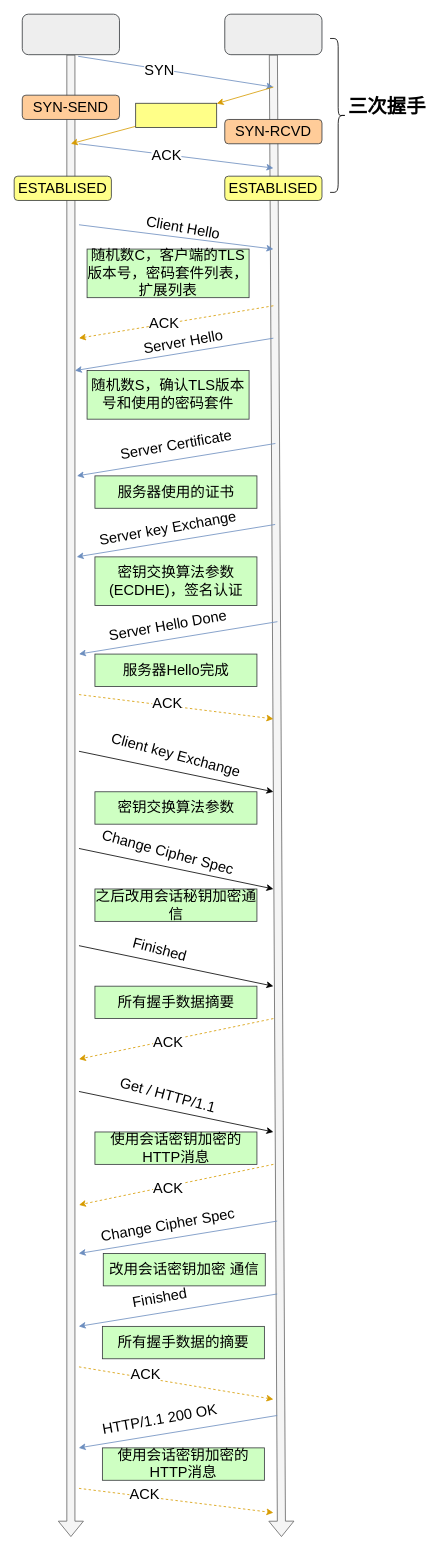
Image size: 441x1551. Some labels were removed from this diagram. Each missing label, with the centre of its shape:
Closed: (70,34)
LISTEN: (273,34)
SYN+ACK: (176,115)
